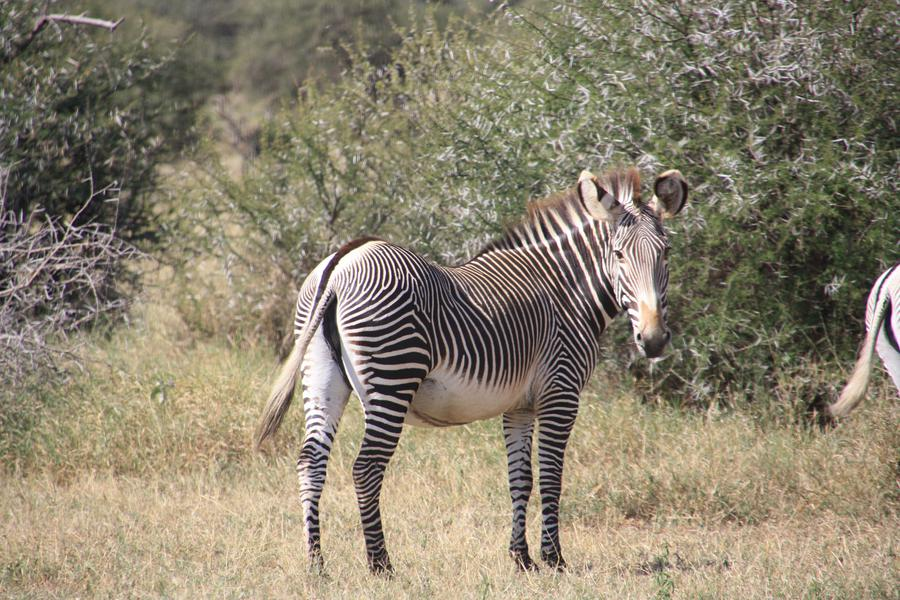zebra_grevys: (308, 239, 588, 399)
